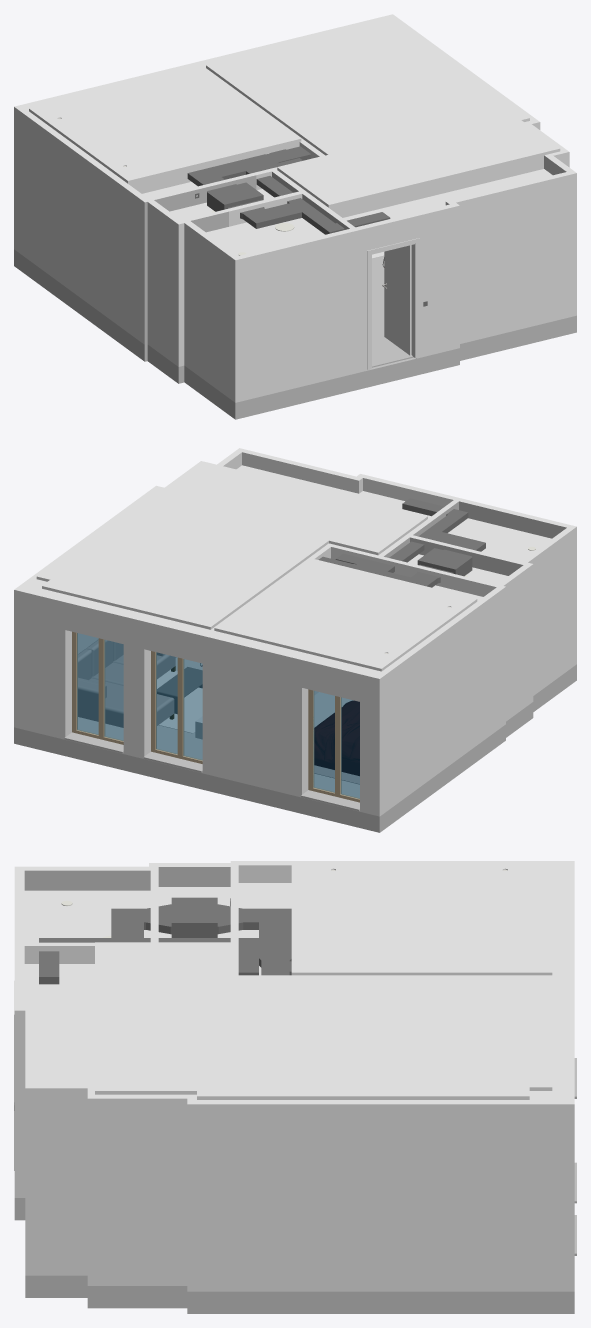
File: Reajustarte_Piso Cristina_00.glb
The picture shows the model from 3 angles, top to bottom: view 1: azimuth 30°, elevation 25°; view 2: azimuth 150°, elevation 25°; view 3: azimuth 270°, elevation 25°; orthographic projection. The views are drawn at different scales.
Visible parts, largest first — view 1: Techos - Falso techo continuo de placa de yeso laminado [681 (×3), Muros - Por defecto - 12 cm [643540], Muros - Ceramica - 12 cm [643567], Muros - Por defecto - 12 cm [643538], Suelos - Por defecto - 30 cm [1150116], Muros - Por defecto - 12 cm [643568], Muros - Ceramica - 12 cm [643566], Puertas - 820 x 2030 mm [643553], Muros - Por defecto - 12 cm [643539], Muros - Por defecto - 27 cm [643534], Muros - Tabica - 3 cm [725579], Techos - Falso techo 2 de placa de yeso laminado [681757] (+11 smaller); view 2: Techos - Falso techo continuo de placa de yeso laminado [681 (×3), Muros - Por defecto - 27 cm [643534], Muros - Por defecto - 12 cm [643540], Suelos - Por defecto - 30 cm [1150116], Muros - Ceramica - 12 cm [643566], Ventanas - 1120 x 2000 mm [682522], Ventanas - 1120 x 2000 mm [682523], Ventanas - 1120 x 2000 mm [682521], Mobiliario - SOFA FAMILIA [1081616], Muros - Por defecto - 12 cm [643539], Suelos - CERAMICA PORCELANOSA CARRARA BLANCO [922741], Techos - Falso techo 2 de placa de yeso laminado [681757] (+13 smaller); view 3: Techos - Falso techo continuo de placa de yeso laminado [681 (×4), Muros - Por defecto - 12 cm [643535], Muros - Por defecto - 12 cm [643537], Suelos - Por defecto - 30 cm [1150116], Muros - Por defecto - 12 cm [643571], Muros - Por defecto - 27 cm [643534], Techos - Falso techo 2 de placa de yeso laminado [681757], Muros - Ceramica - 12 cm [643566], Muros - Por defecto - 12 cm [643538], Muros - Por defecto - 12 cm [643569], Muros - Por defecto - 12 cm [643570], Muros - Por defecto - 12 cm [643536] (+13 smaller).
Part boxes in pixels (bbox=[...]): Techos - Falso techo continuo de placa de yeso laminado [681 (×3): bbox=[29, 22, 560, 220]; Muros - Por defecto - 12 cm [643540]: bbox=[22, 111, 150, 344]; Muros - Ceramica - 12 cm [643567]: bbox=[231, 229, 353, 402]; Muros - Por defecto - 12 cm [643538]: bbox=[445, 170, 576, 343]; Suelos - Por defecto - 30 cm [1150116]: bbox=[14, 249, 576, 419]; Muros - Por defecto - 12 cm [643568]: bbox=[350, 204, 453, 373]; Muros - Ceramica - 12 cm [643566]: bbox=[184, 221, 237, 399]; Puertas - 820 x 2030 mm [643553]: bbox=[367, 238, 419, 369]; Muros - Por defecto - 12 cm [643539]: bbox=[147, 200, 180, 363]; Muros - Por defecto - 27 cm [643534]: bbox=[14, 14, 400, 254]; Muros - Tabica - 3 cm [725579]: bbox=[330, 155, 543, 217]; Techos - Falso techo 2 de placa de yeso laminado [681757]: bbox=[170, 189, 324, 255]; Techos - Falso techo continuo de placa de yeso laminado [681 (×3): bbox=[36, 461, 477, 671]; Muros - Por defecto - 27 cm [643534]: bbox=[14, 584, 387, 816]; Muros - Por defecto - 12 cm [643540]: bbox=[382, 585, 505, 810]; Suelos - Por defecto - 30 cm [1150116]: bbox=[14, 664, 576, 832]; Muros - Ceramica - 12 cm [643566]: bbox=[522, 527, 573, 695]; Ventanas - 1120 x 2000 mm [682522]: bbox=[143, 651, 202, 772]; Ventanas - 1120 x 2000 mm [682523]: bbox=[64, 631, 123, 753]; Ventanas - 1120 x 2000 mm [682521]: bbox=[301, 689, 359, 811]; Mobiliario - SOFA FAMILIA [1081616]: bbox=[78, 639, 175, 727]; Muros - Por defecto - 12 cm [643539]: bbox=[497, 565, 529, 721]; Suelos - CERAMICA PORCELANOSA CARRARA BLANCO [922741]: bbox=[78, 657, 359, 797]; Techos - Falso techo 2 de placa de yeso laminado [681757]: bbox=[408, 518, 551, 584]; Techos - Falso techo continuo de placa de yeso laminado [681 (×4): bbox=[24, 861, 552, 1099]; Muros - Por defecto - 12 cm [643535]: bbox=[197, 1100, 552, 1291]; Muros - Por defecto - 12 cm [643537]: bbox=[97, 1094, 187, 1285]; Suelos - Por defecto - 30 cm [1150116]: bbox=[14, 1198, 574, 1313]; Muros - Por defecto - 12 cm [643571]: bbox=[35, 1084, 87, 1275]; Muros - Por defecto - 27 cm [643534]: bbox=[552, 861, 574, 1291]; Techos - Falso techo 2 de placa de yeso laminado [681757]: bbox=[24, 887, 230, 942]; Muros - Ceramica - 12 cm [643566]: bbox=[24, 866, 148, 890]; Muros - Por defecto - 12 cm [643538]: bbox=[25, 1006, 35, 1275]; Muros - Por defecto - 12 cm [643569]: bbox=[14, 1006, 25, 1197]; Muros - Por defecto - 12 cm [643570]: bbox=[87, 1084, 97, 1285]; Muros - Por defecto - 12 cm [643536]: bbox=[187, 1094, 196, 1291].
Bounding box in the file's own units: 7.04 × 2.88 × 6.89.
